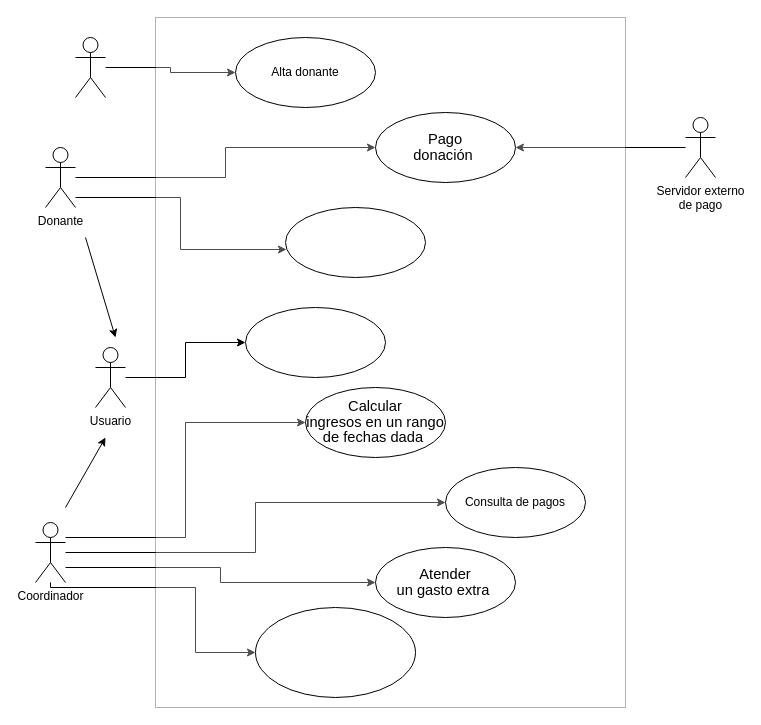
This 761x725 diagram has some shape labels left out. The shapes that lost their labels are listed below. From the top down, each one's centre as x and y in pixels, then its label:
point 90,67: Persona
point 355,242: Agregar donante a un Organismo
point 315,342: Alta de Organismo
point 335,652: Retornar ingresos y nombre de los donantes para un organismo en una fecha actual
